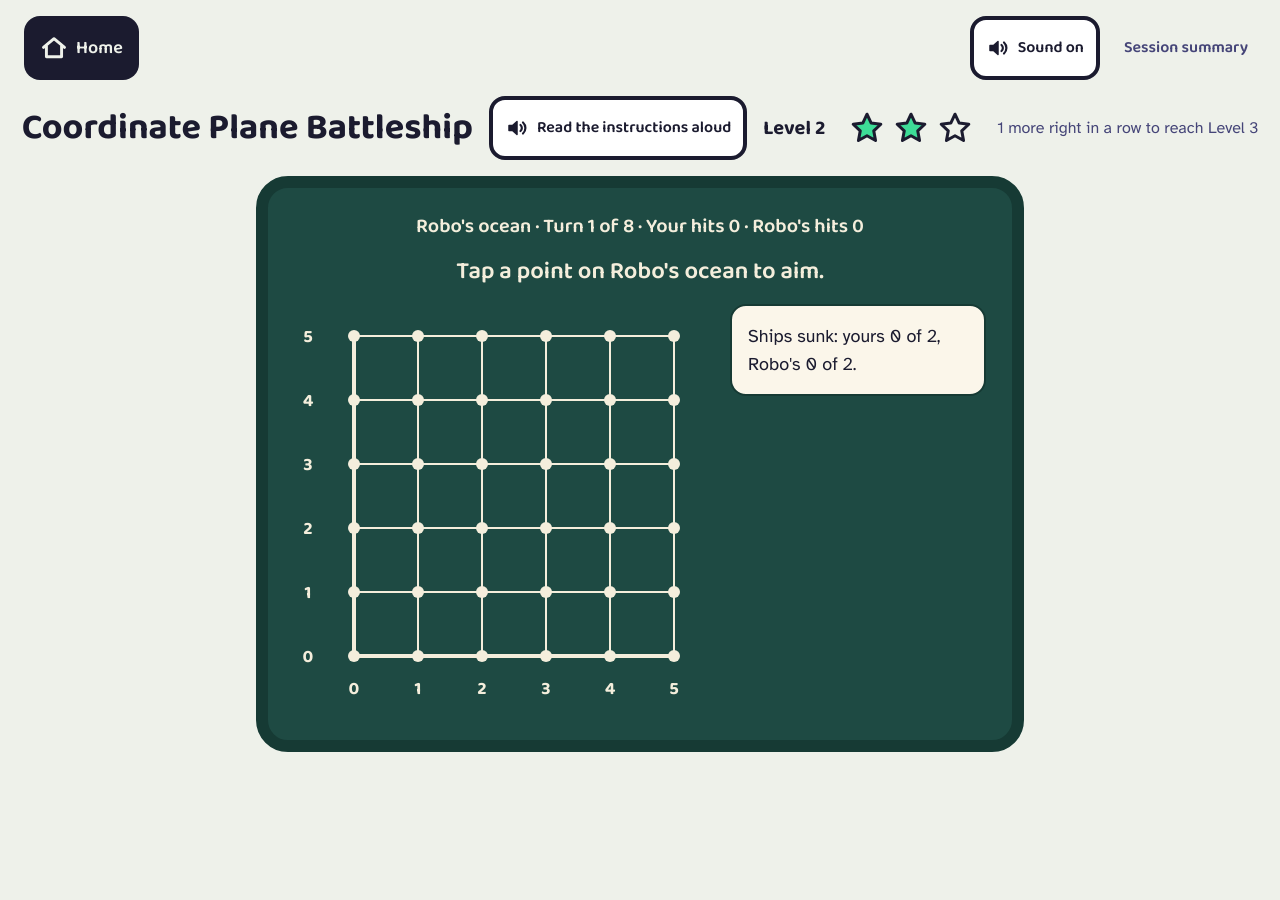
Undo takes back the last number before firing
Step 1. Click the button named "Point (3, 5)" → (546, 336), box [514, 304, 578, 368]
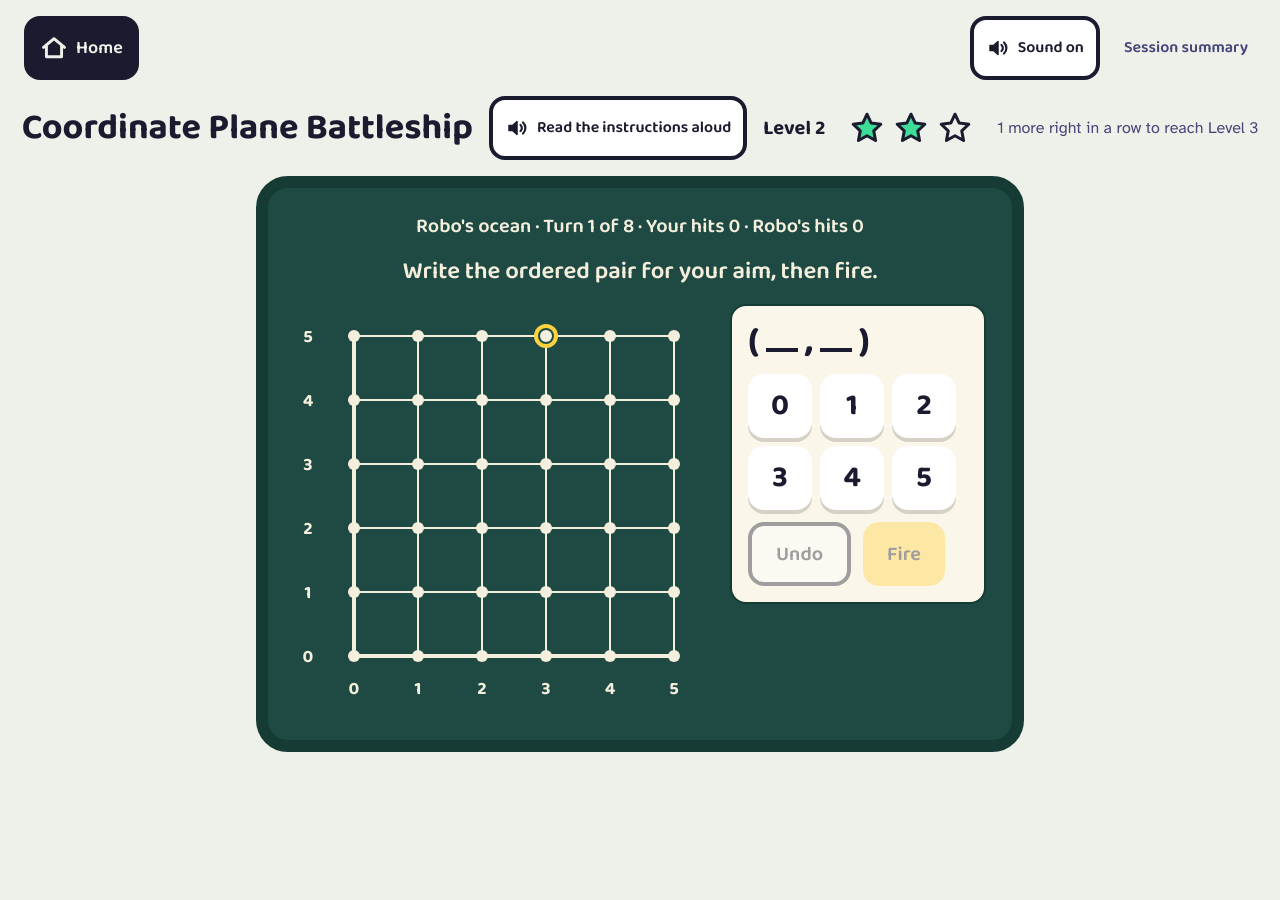
expect the text "Write the ordered pair for your aim, then fire." is shown: met, box [403, 256, 877, 288]
Step 2. Click the button "3" → (780, 478), box [748, 446, 812, 510]
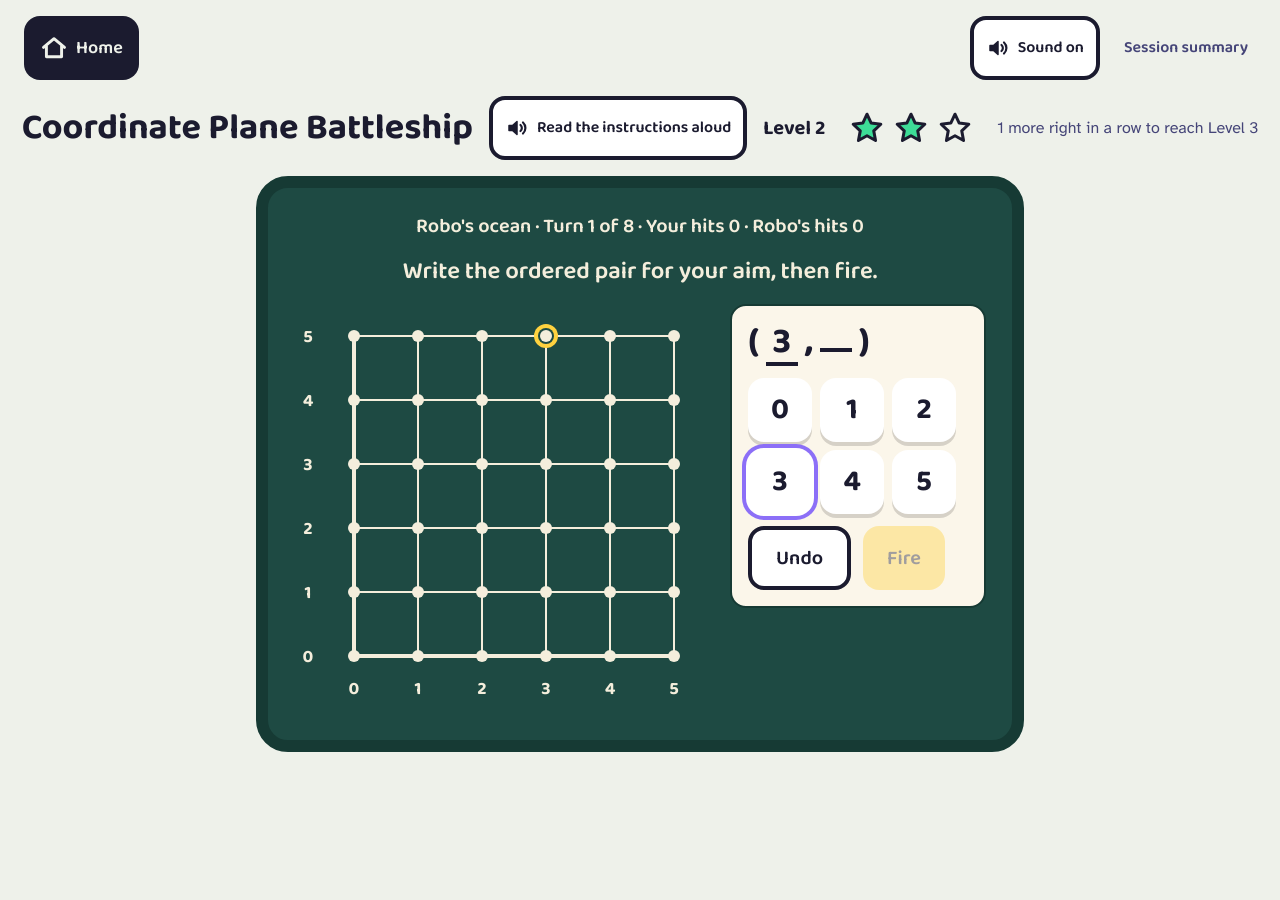
Step 3. Click the button "4" → (852, 482), box [820, 450, 884, 514]
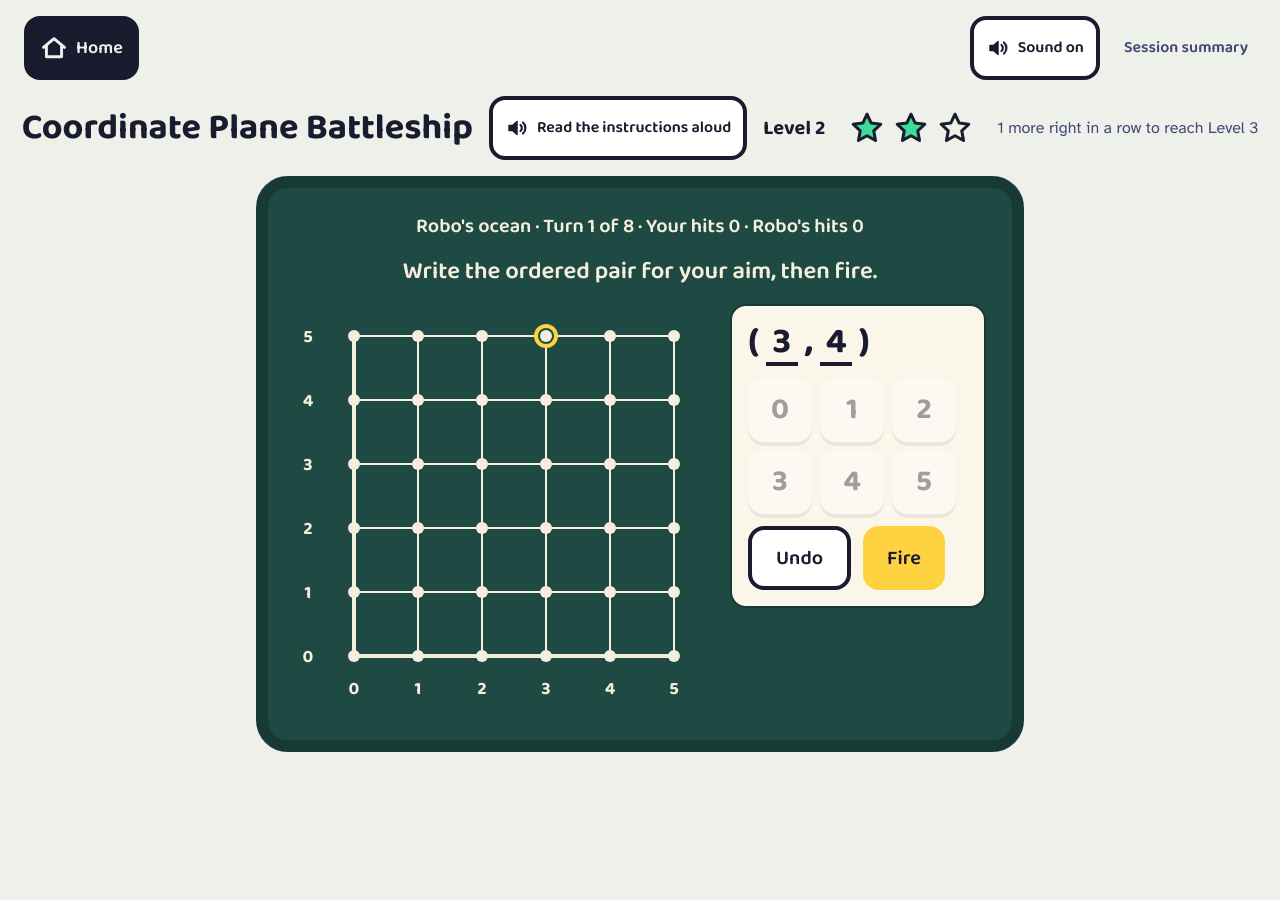
Step 4. Click the button "Undo" → (800, 558), box [748, 526, 851, 590]
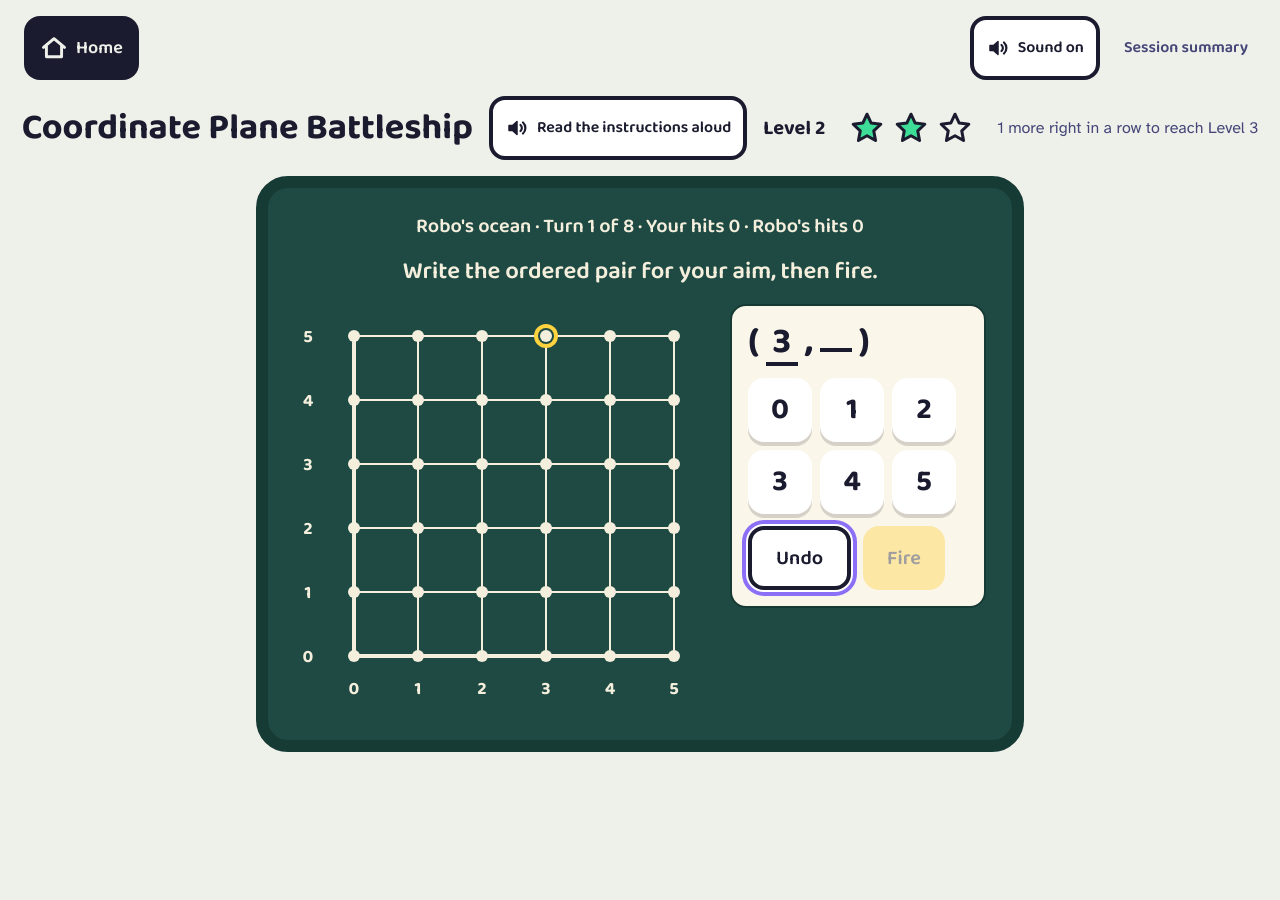
expect the element named "Your pair: (3, )" is shown: met, box [748, 322, 870, 366]
expect the button "Fire" is disabled: met, box [863, 526, 945, 590]
